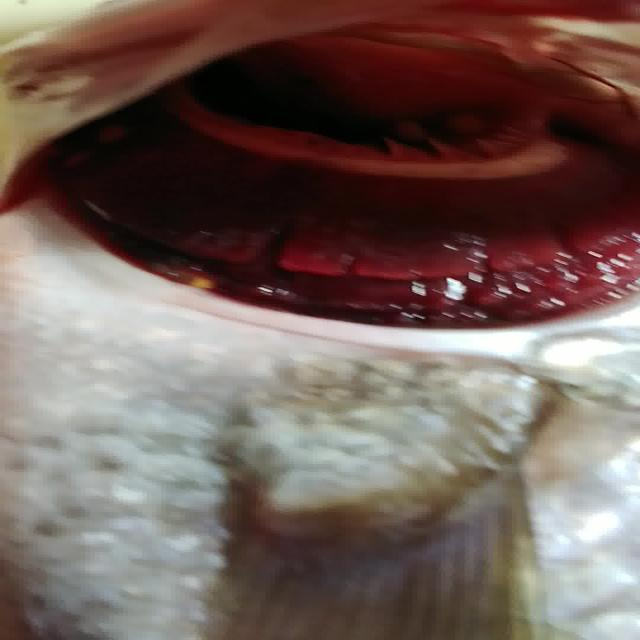Fresh: (12, 44, 640, 342)
